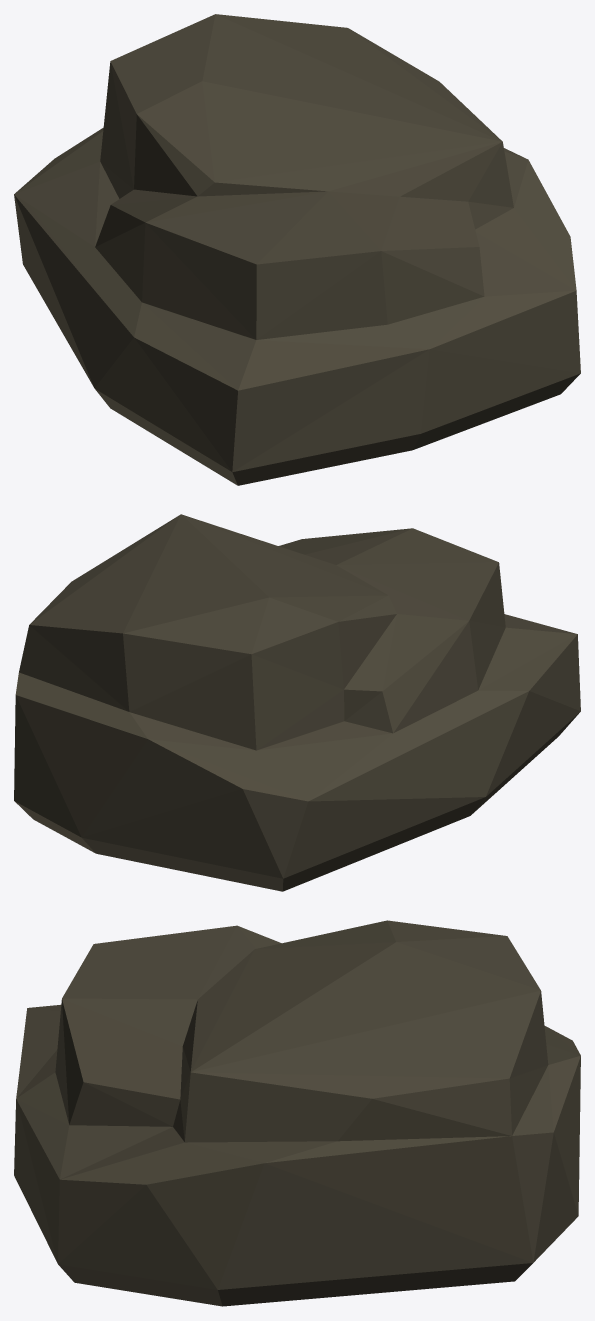
The model's file is rock__rock5_cave_dark.glb.
The picture shows the model from 3 angles, top to bottom: view 1: azimuth 30°, elevation 25°; view 2: azimuth 150°, elevation 25°; view 3: azimuth 270°, elevation 25°; orthographic projection. The views are drawn at different scales.
Visible parts, largest first — view 1: rock5.cave.dark; view 2: rock5.cave.dark; view 3: rock5.cave.dark.
Part boxes in pixels (box(x1,y1,x2,y2)): rock5.cave.dark: box(14, 14, 580, 485); rock5.cave.dark: box(14, 514, 580, 891); rock5.cave.dark: box(14, 920, 580, 1306).
Bounding box in the file's own units: 3.27 × 1.74 × 3.67.
1 material, 1 textured.
